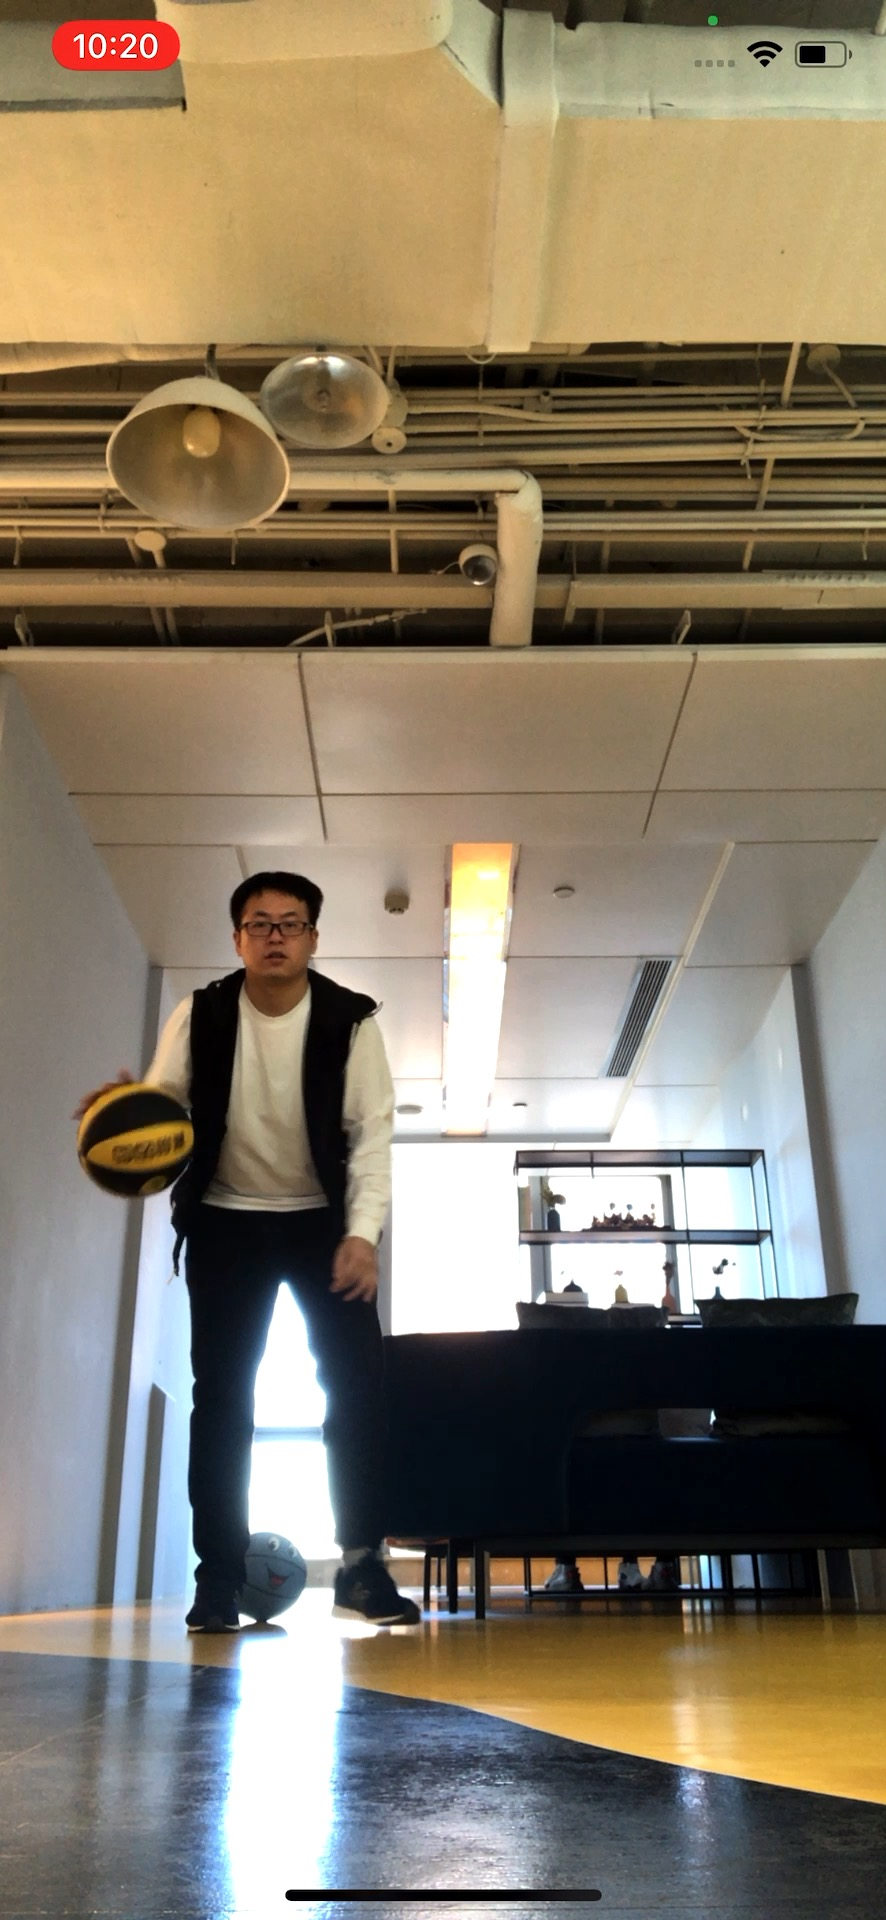ball: (72, 1080, 196, 1198), (235, 1531, 308, 1621)
